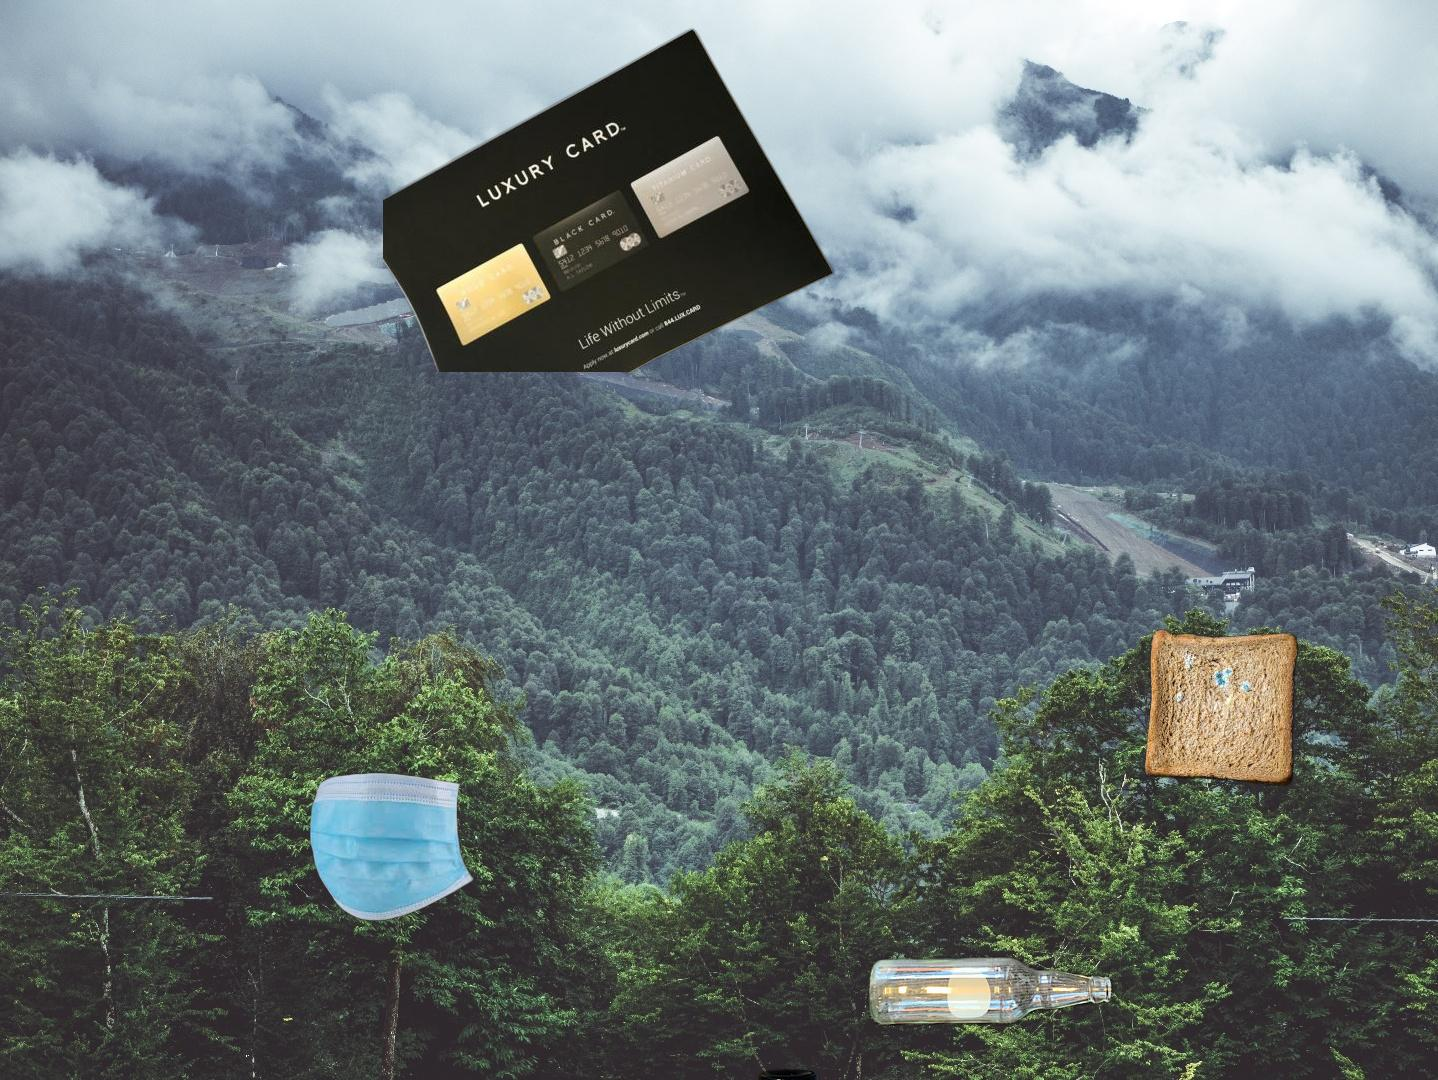biological: (1141, 627, 1299, 788)
glass: (864, 950, 1116, 1032), (747, 1058, 823, 1080)
paper: (383, 25, 838, 372)
penholder: (1240, 130, 1438, 813)
trash: (307, 770, 477, 923)
